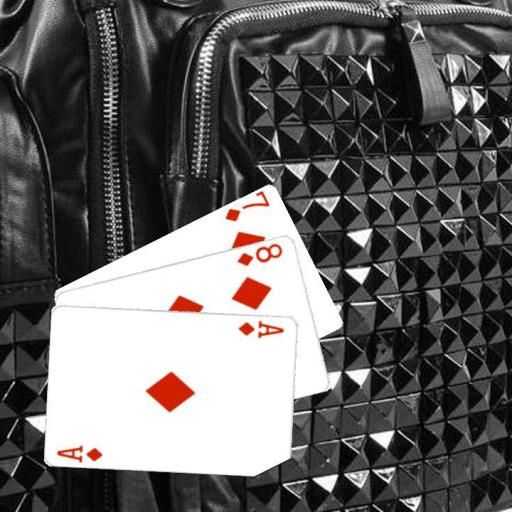7D: (221, 189, 272, 223)
8D: (234, 240, 284, 267)
AD: (236, 317, 286, 339), (54, 442, 104, 463)
